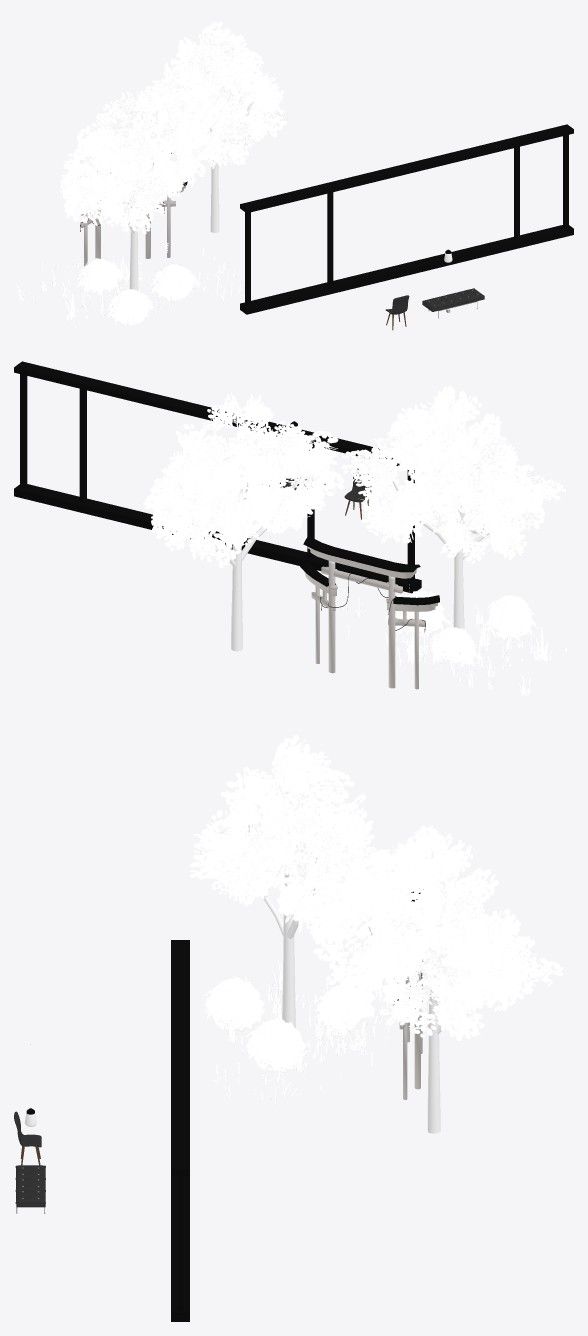
The picture shows the model from 3 angles, top to bottom: view 1: azimuth 30°, elevation 25°; view 2: azimuth 150°, elevation 25°; view 3: azimuth 270°, elevation 25°; orthographic projection. The views are drawn at different scales.
Parts seen in each view (by area): view 1: leaves, wall.001, plants, tori new.001, tree, foot base.001, tree.002; view 2: leaves, wall.001, plants, tori new.001, tree, tree.002; view 3: leaves, plants, wall.001, tree, foot base.001, tree.002, tori new.001.
Boxes of the visible parts, left/top/right/bottom form: leaves: left=59, top=21, right=287, bottom=234; wall.001: left=240, top=124, right=573, bottom=314; plants: left=15, top=242, right=242, bottom=328; tori new.001: left=80, top=153, right=187, bottom=267; tree: left=84, top=92, right=255, bottom=290; foot base.001: left=422, top=288, right=484, bottom=318; tree.002: left=84, top=163, right=153, bottom=290; leaves: left=143, top=385, right=565, bottom=568; wall.001: left=14, top=361, right=421, bottom=593; plants: left=340, top=584, right=568, bottom=696; tori new.001: left=300, top=536, right=439, bottom=689; tree: left=193, top=479, right=490, bottom=651; tree.002: left=392, top=481, right=489, bottom=626; leaves: left=189, top=735, right=563, bottom=1040; plants: left=202, top=957, right=409, bottom=1105; wall.001: left=171, top=940, right=189, bottom=1321; tree: left=248, top=825, right=441, bottom=1133; foot base.001: left=15, top=1165, right=45, bottom=1213; tree.002: left=248, top=825, right=316, bottom=1023; tori new.001: left=392, top=889, right=423, bottom=1099.
Size of the model in its own units: 385 by 168 by 265.
Materials: 5 (4 with a texture image).
